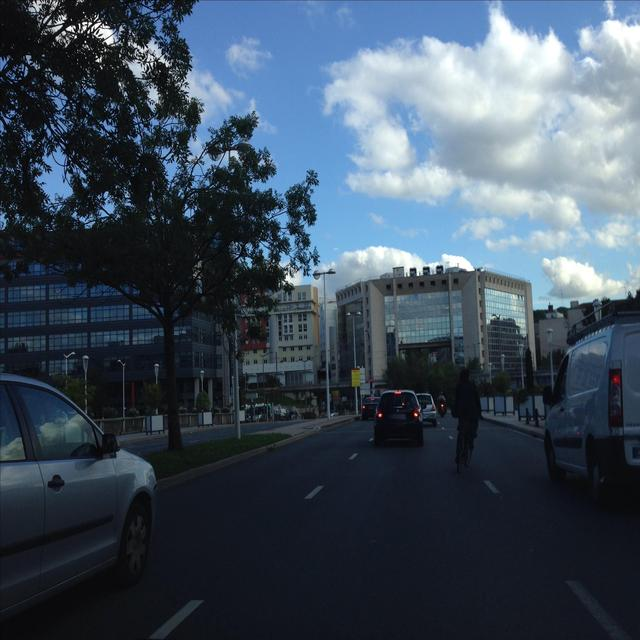Bicycle: (457, 418, 472, 474)
Car: (0, 373, 159, 637), (543, 300, 639, 507), (330, 390, 436, 446)
Vegetation: (51, 372, 161, 418), (475, 346, 555, 405), (583, 288, 639, 316), (335, 403, 355, 413)
